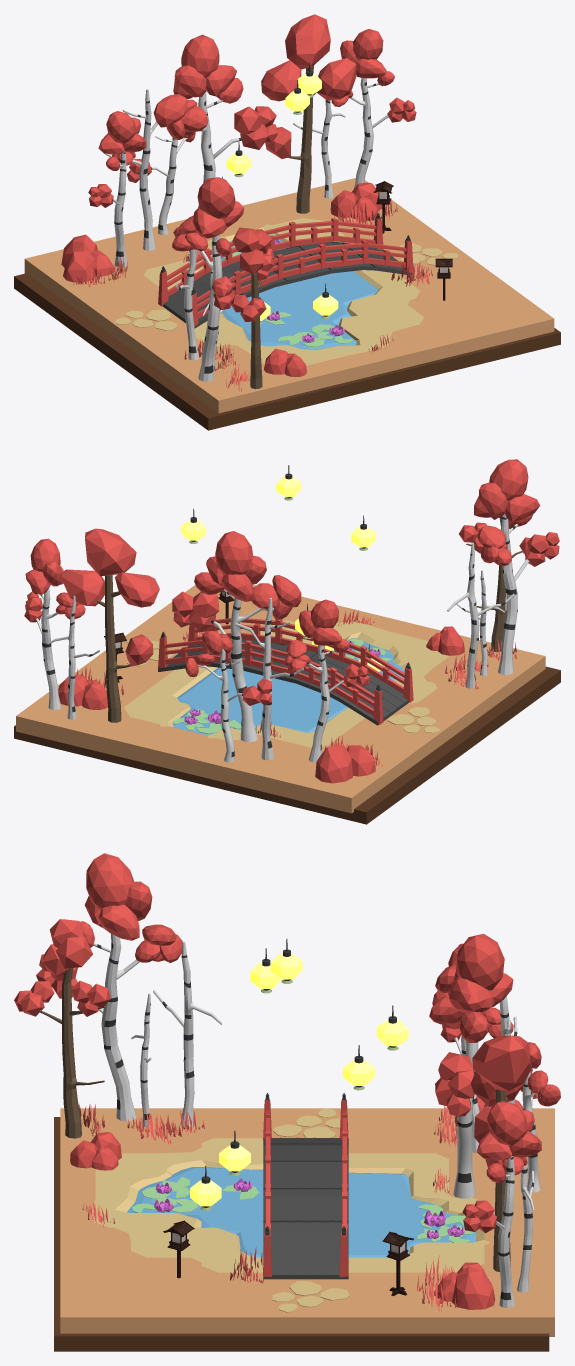
Rendered from garden.glb.
3 views of the same model, one above another, from view 1: azimuth 30°, elevation 25°; view 2: azimuth 150°, elevation 25°; view 3: azimuth 270°, elevation 25° (orthographic). The views are drawn at different scales.
Visible parts, largest first — view 1: Cube, Cube.005, Icosphere.016, Circle, Plane.003, Cylinder.005, Cylinder.003, Cylinder.001, Icosphere.010, Icosphere.017, Cylinder.006, Icosphere.018 (+4 smaller); view 2: Cube, Cube.005, Icosphere.016, Circle, Cylinder.005, Plane.003, Cylinder.001, Cylinder.003, Icosphere.001, Icosphere.017, Icosphere.010, Cylinder.006 (+8 smaller); view 3: Cube, Cube.005, Plane.003, Icosphere.016, Cylinder.005, Icosphere.010, Cylinder.003, Circle, Cylinder.004, Icosphere.018, Icosphere.001, Icosphere.002 (+12 smaller).
Boxes of the visible parts, x1=… form: Cube: x1=14, y1=178, x2=560, y2=430; Cube.005: x1=158, y1=213, x2=412, y2=328; Icosphere.016: x1=153, y1=34, x2=277, y2=254; Circle: x1=261, y1=14, x2=356, y2=213; Plane.003: x1=221, y1=239, x2=377, y2=349; Cylinder.005: x1=172, y1=177, x2=243, y2=381; Cylinder.003: x1=326, y1=29, x2=416, y2=188; Cylinder.001: x1=88, y1=111, x2=146, y2=267; Icosphere.010: x1=231, y1=227, x2=274, y2=389; Icosphere.017: x1=61, y1=234, x2=114, y2=282; Cylinder.006: x1=103, y1=89, x2=157, y2=250; Icosphere.018: x1=330, y1=182, x2=382, y2=220; Cube: x1=14, y1=584, x2=560, y2=824; Cube.005: x1=158, y1=618, x2=413, y2=725; Icosphere.016: x1=172, y1=531, x2=301, y2=742; Circle: x1=62, y1=528, x2=159, y2=722; Cylinder.005: x1=474, y1=459, x2=559, y2=674; Plane.003: x1=172, y1=638, x2=404, y2=735; Cylinder.001: x1=284, y1=599, x2=369, y2=762; Cylinder.003: x1=24, y1=538, x2=85, y2=709; Icosphere.001: x1=185, y1=630, x2=271, y2=762; Icosphere.017: x1=315, y1=744, x2=375, y2=783; Icosphere.010: x1=459, y1=493, x2=545, y2=651; Cylinder.006: x1=235, y1=597, x2=303, y2=760; Cube: x1=54, y1=1108, x2=554, y2=1351; Cube.005: x1=263, y1=1093, x2=348, y2=1279; Plane.003: x1=127, y1=1167, x2=475, y2=1257; Icosphere.016: x1=429, y1=933, x2=513, y2=1198; Cylinder.005: x1=36, y1=853, x2=182, y2=1121; Icosphere.010: x1=14, y1=919, x2=111, y2=1138; Cylinder.003: x1=462, y1=1101, x2=541, y2=1307; Circle: x1=470, y1=1035, x2=531, y2=1271; Cylinder.004: x1=153, y1=941, x2=221, y2=1126; Icosphere.018: x1=434, y1=1262, x2=495, y2=1309; Icosphere.001: x1=520, y1=1042, x2=560, y2=1192; Icosphere.002: x1=70, y1=1132, x2=121, y2=1170.
Size of the model in its own units: 11.36 by 7.01 by 11.37.
15 materials, 2 textured.
